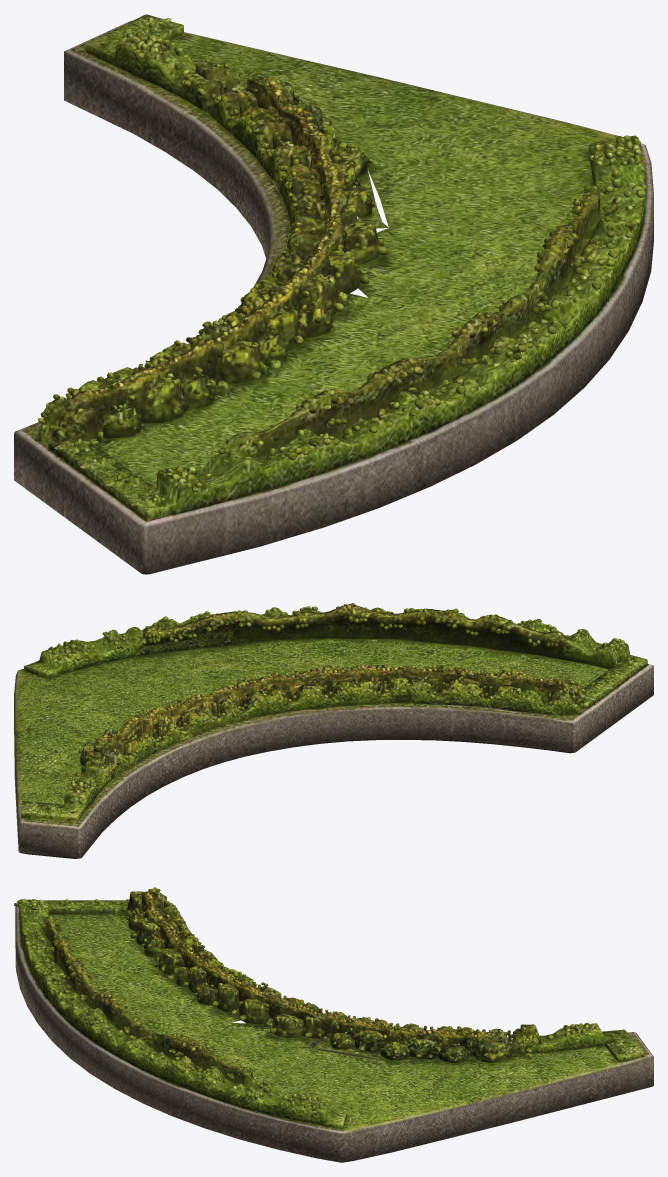
File: grass_1-1ba95f6aff.glb
3 views of the same model, one above another, from view 1: azimuth 30°, elevation 25°; view 2: azimuth 150°, elevation 25°; view 3: azimuth 270°, elevation 25° (orthographic). The views are drawn at different scales.
Parts seen in each view (by area): view 1: tripo_node_380bcbd3-608f-4cb1-89bc-b35509b7ab37; view 2: tripo_node_380bcbd3-608f-4cb1-89bc-b35509b7ab37; view 3: tripo_node_380bcbd3-608f-4cb1-89bc-b35509b7ab37.
Boxes of the visible parts, <box> form: tripo_node_380bcbd3-608f-4cb1-89bc-b35509b7ab37: <box>14,14,653,574</box>; tripo_node_380bcbd3-608f-4cb1-89bc-b35509b7ab37: <box>14,603,653,858</box>; tripo_node_380bcbd3-608f-4cb1-89bc-b35509b7ab37: <box>14,887,653,1162</box>.
Bounding box in the file's own units: 0.8462 × 0.1143 × 0.999.
Materials: 1 (1 with a texture image).
